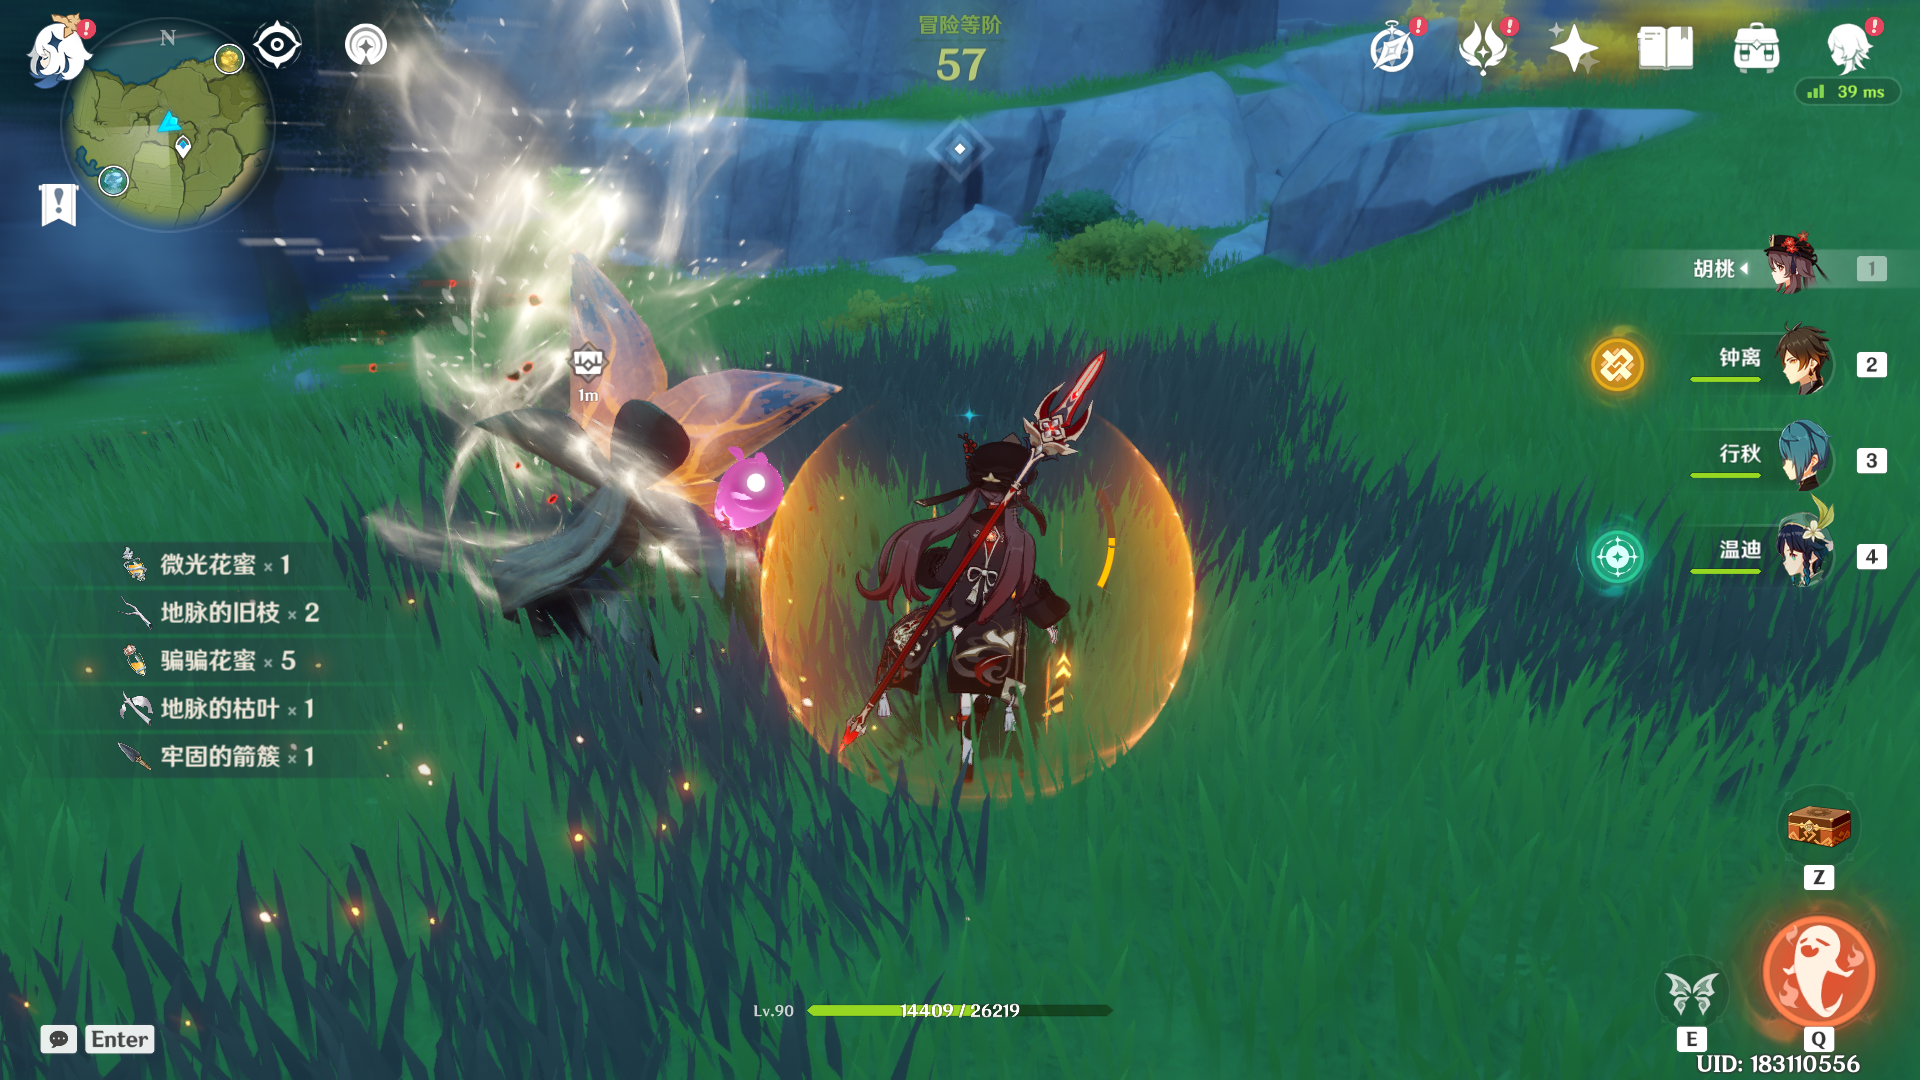character: (866, 363, 1183, 849)
